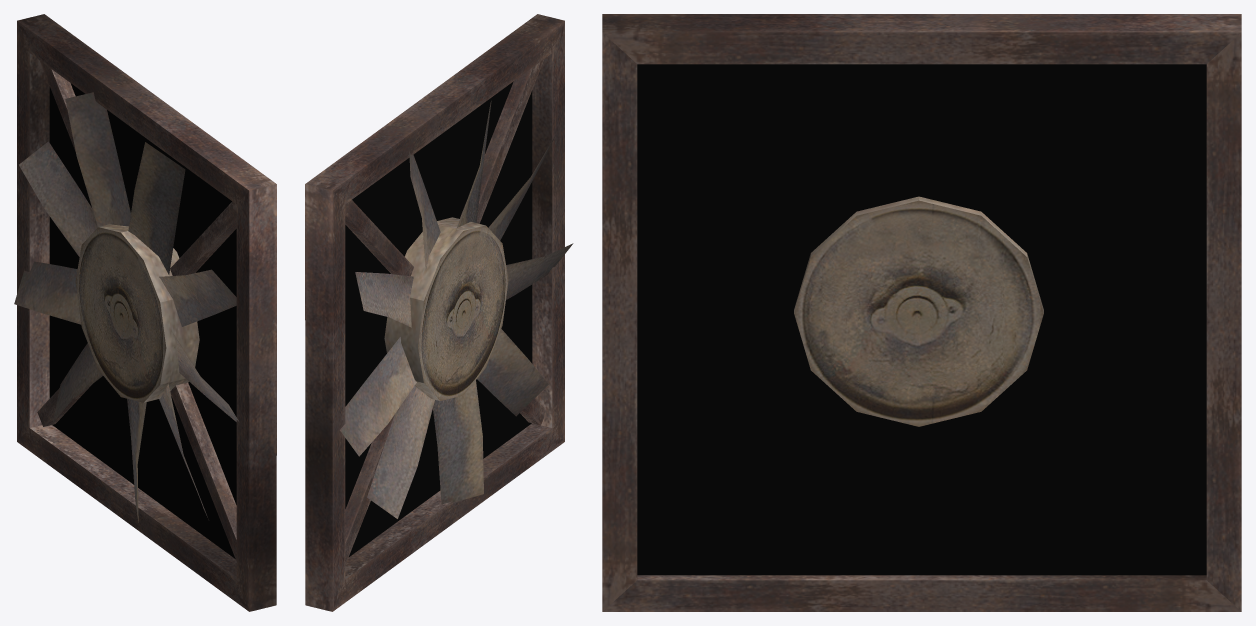
The model's file is Fan_v1_2.FBX.
3 views of the same model, side by side, from view 1: azimuth 30°, elevation 25°; view 2: azimuth 150°, elevation 25°; view 3: azimuth 270°, elevation 25° (orthographic). The views are drawn at different scales.
Visible parts, largest first — view 1: Fan_v1_2_frame, Fan_v1_2_bb, Fan_v1_2_blades; view 2: Fan_v1_2_frame, Fan_v1_2_bb, Fan_v1_2_blades; view 3: Fan_v1_2_bb, Fan_v1_2_frame.
Part boxes in pixels (x1,y1,x2,y2): Fan_v1_2_frame: (17,14,276,611); Fan_v1_2_bb: (49,83,236,558); Fan_v1_2_blades: (14,92,238,522); Fan_v1_2_frame: (305,14,564,611); Fan_v1_2_bb: (345,81,532,556); Fan_v1_2_blades: (340,100,573,518); Fan_v1_2_bb: (637,64,1206,575); Fan_v1_2_frame: (602,14,1241,611).
Size of the model in its own units: 0.1382 by 1.31 by 1.31.
